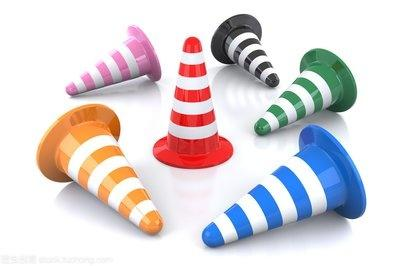cone_barrel: (198, 139, 353, 248), (43, 99, 164, 237), (157, 35, 227, 165), (251, 56, 345, 137), (62, 24, 155, 96), (209, 15, 279, 87)
